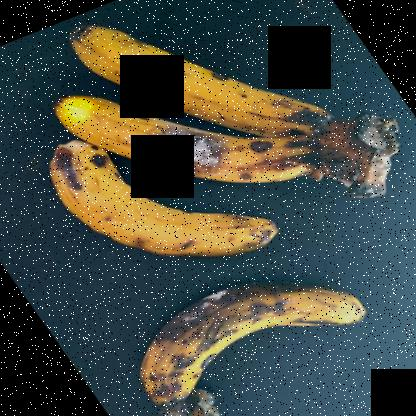overripe: (22, 144, 313, 262), (64, 18, 344, 134), (47, 94, 320, 180)
rotten: (142, 264, 364, 409)
